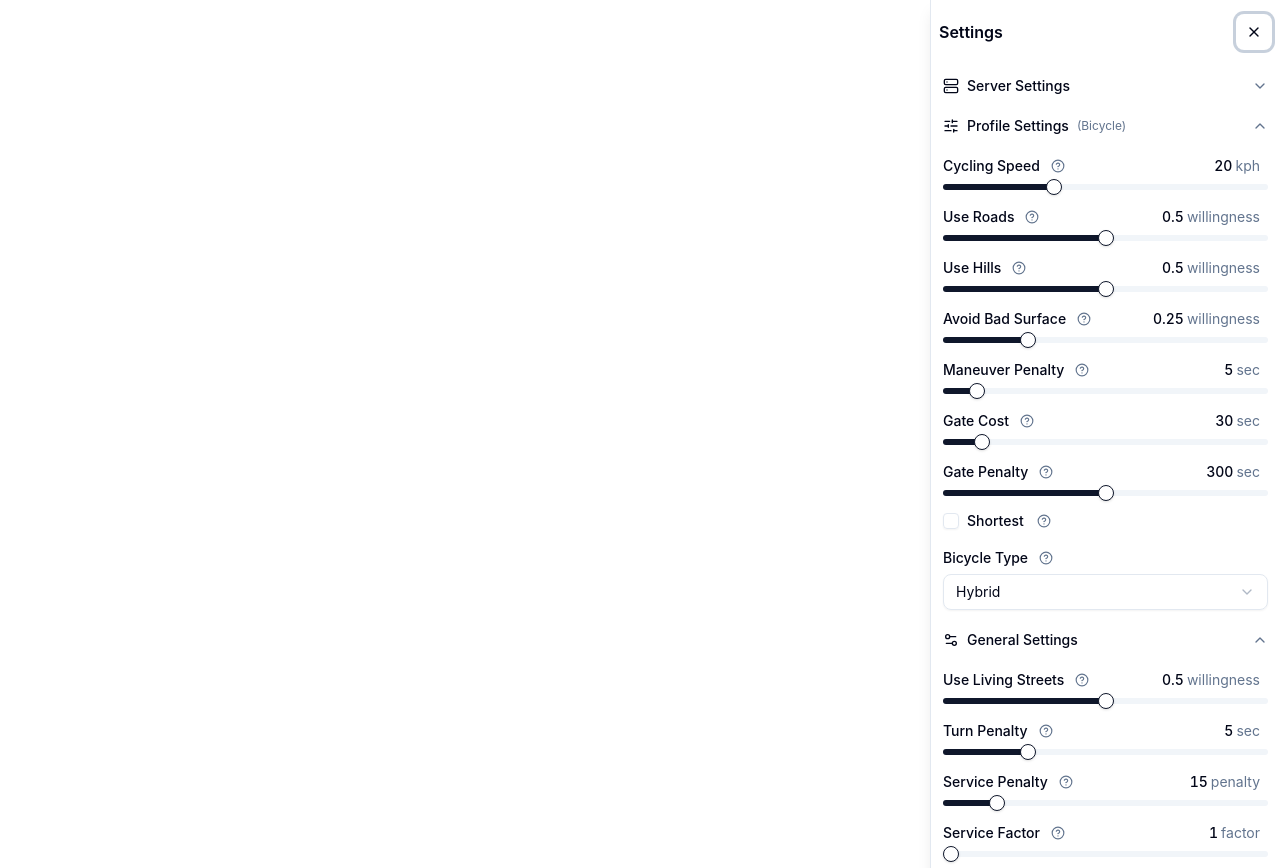
Test: SettingsPanel › Server Settings › should clear error when typing after error
Click the button "Server Settings": (1018, 86) x1=943 y1=72 x2=1268 y2=100
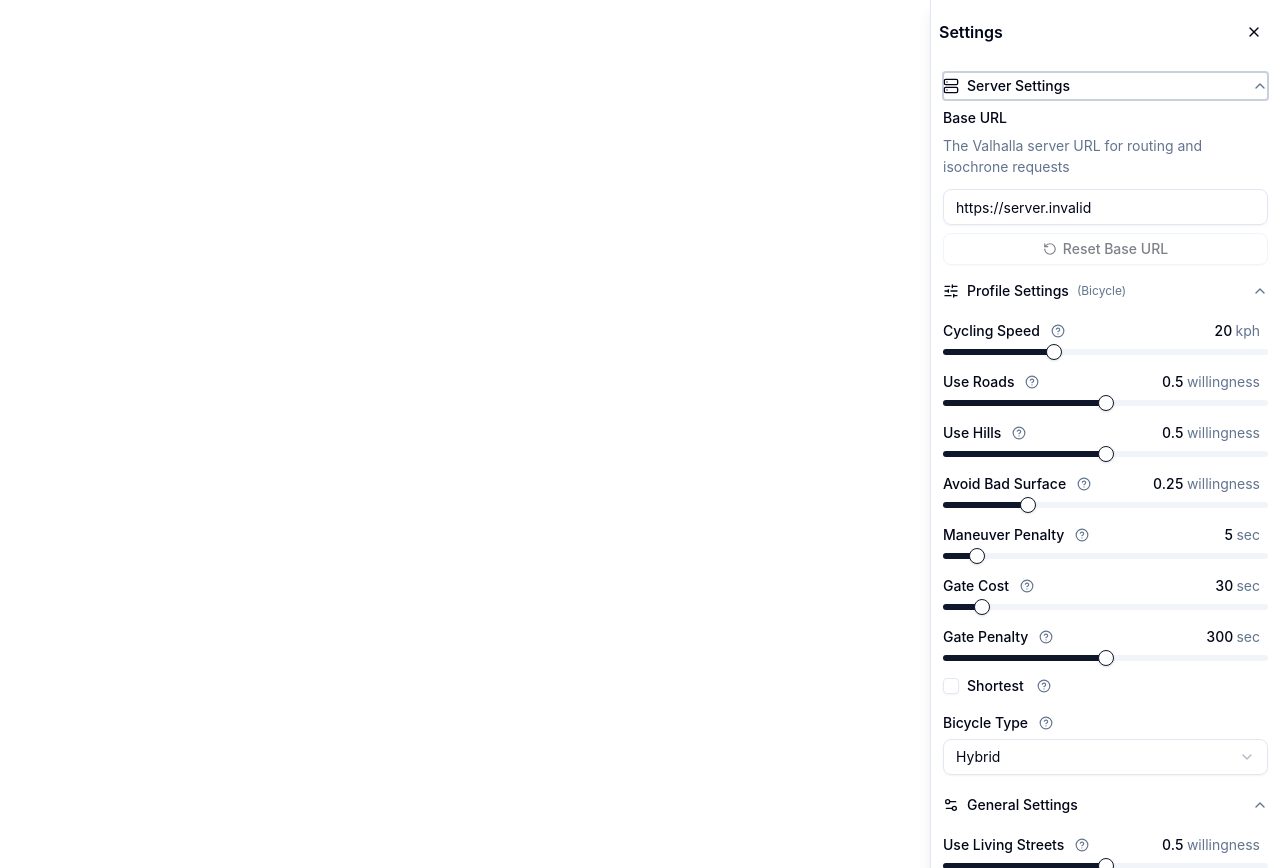
Replace the text in the field labelled "Base URL" with "invalid": (1106, 207) x1=943 y1=189 x2=1268 y2=225
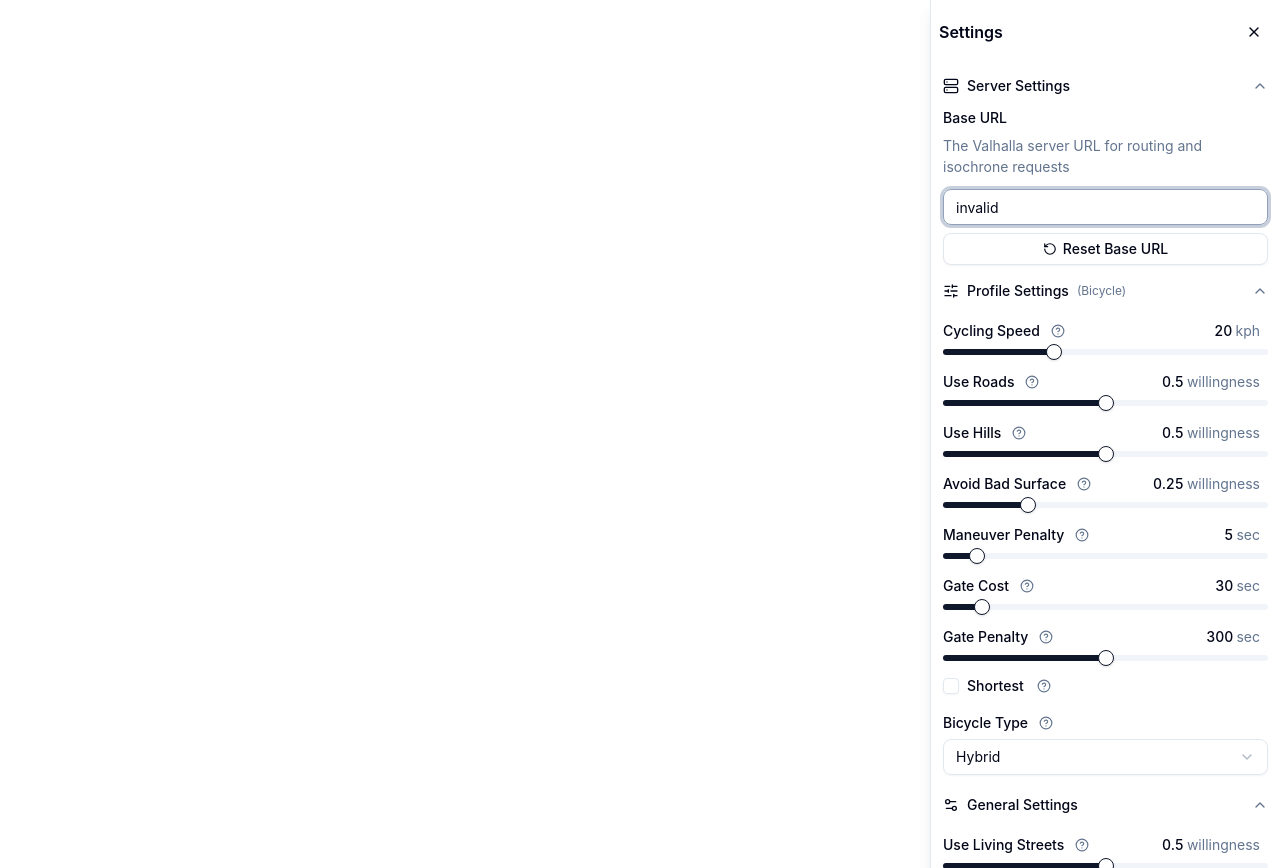
Press Tab
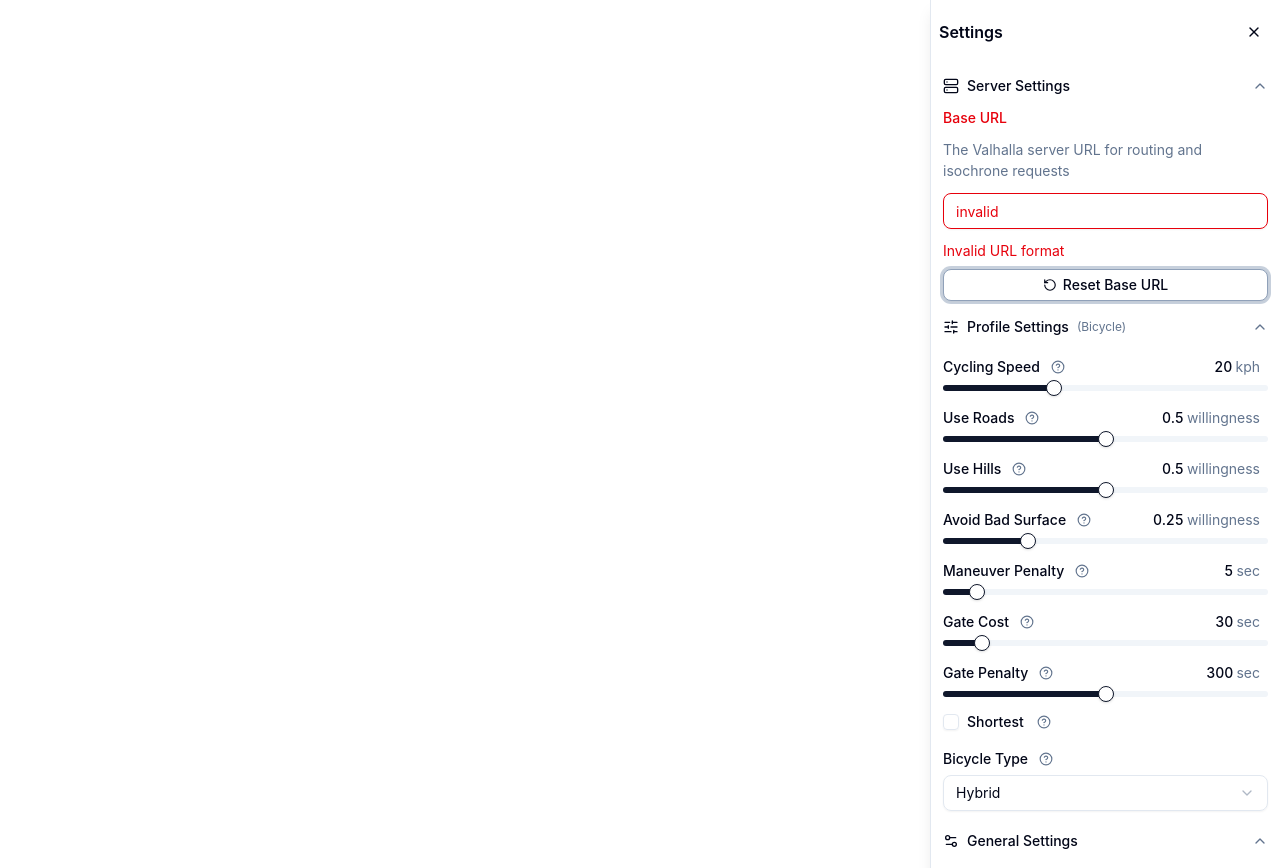
Now the text "Invalid URL format" is shown, box x1=943 y1=242 x2=1064 y2=259
In the field labelled "Base URL": (1106, 211) x1=943 y1=193 x2=1268 y2=229, type "https://valid.com"
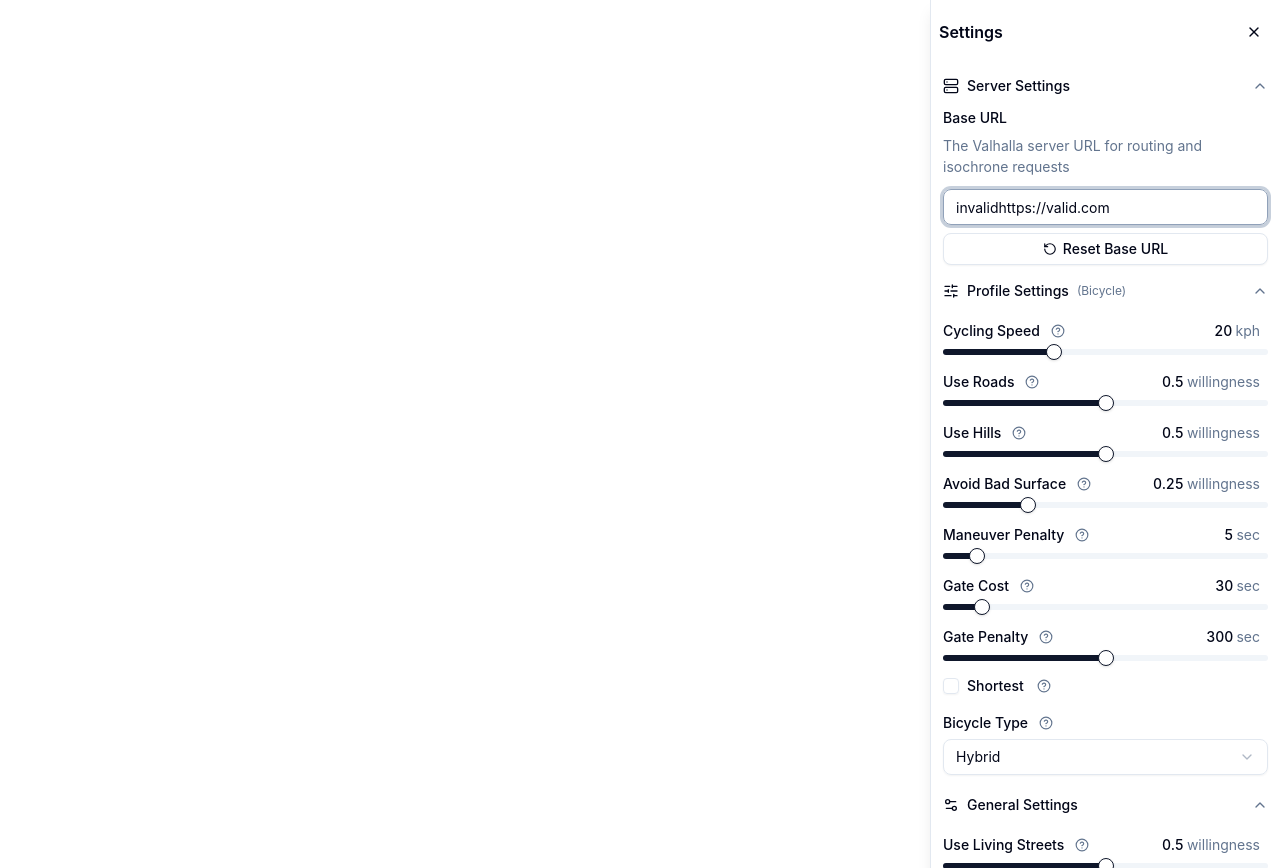
Now the text "Invalid URL format" is gone
